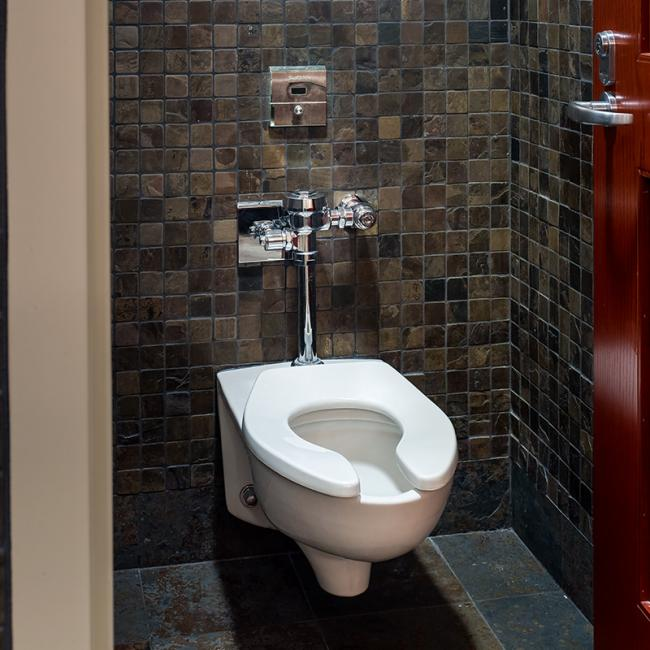door_handle: (563, 90, 634, 127)
toilet: (215, 355, 458, 597)
